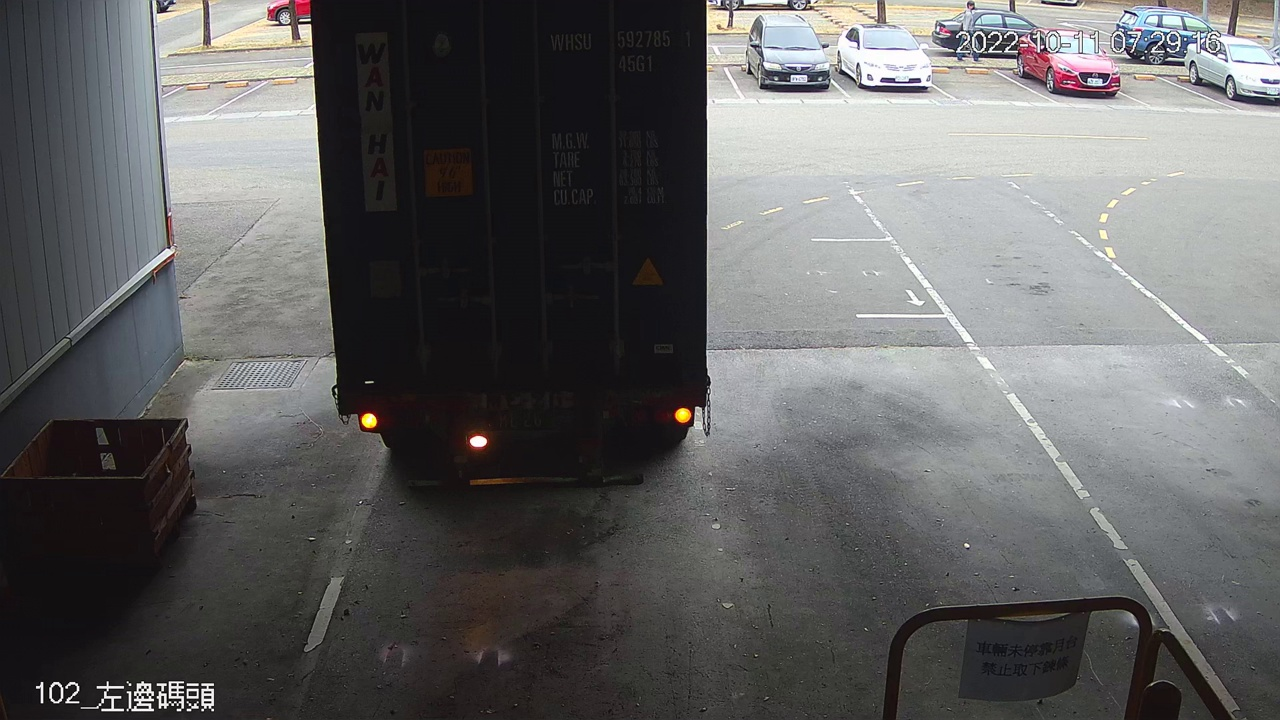container: (544, 25, 698, 79)
